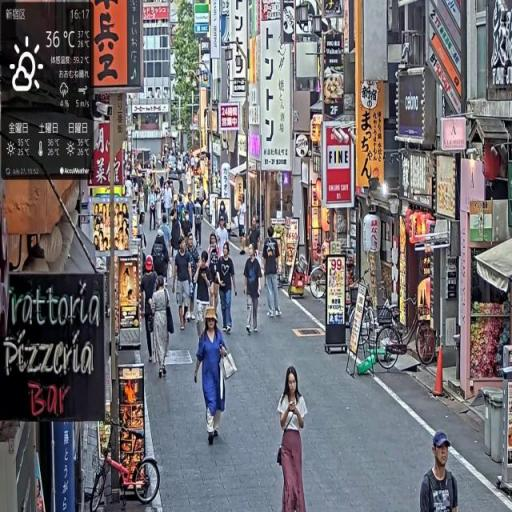person: (194, 306, 238, 445), (278, 363, 310, 512), (420, 431, 461, 512), (152, 272, 176, 381), (141, 255, 160, 368), (217, 241, 238, 338), (175, 237, 195, 331), (244, 244, 264, 338), (208, 231, 224, 316)
